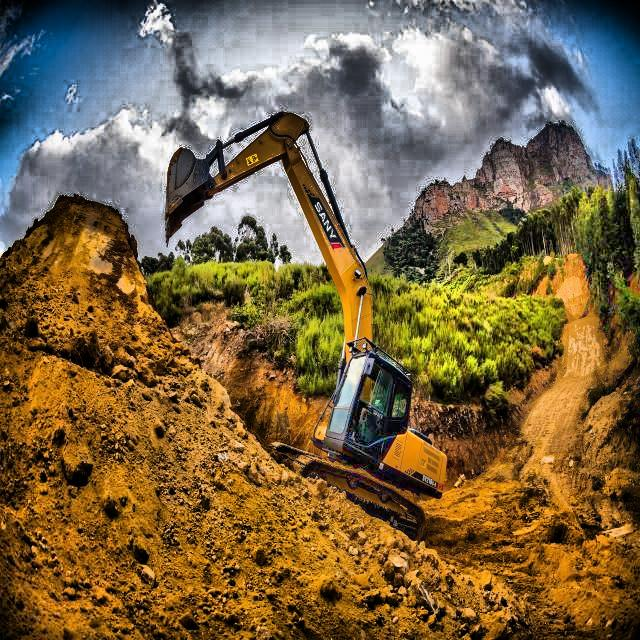excavator: (163, 109, 452, 544)
